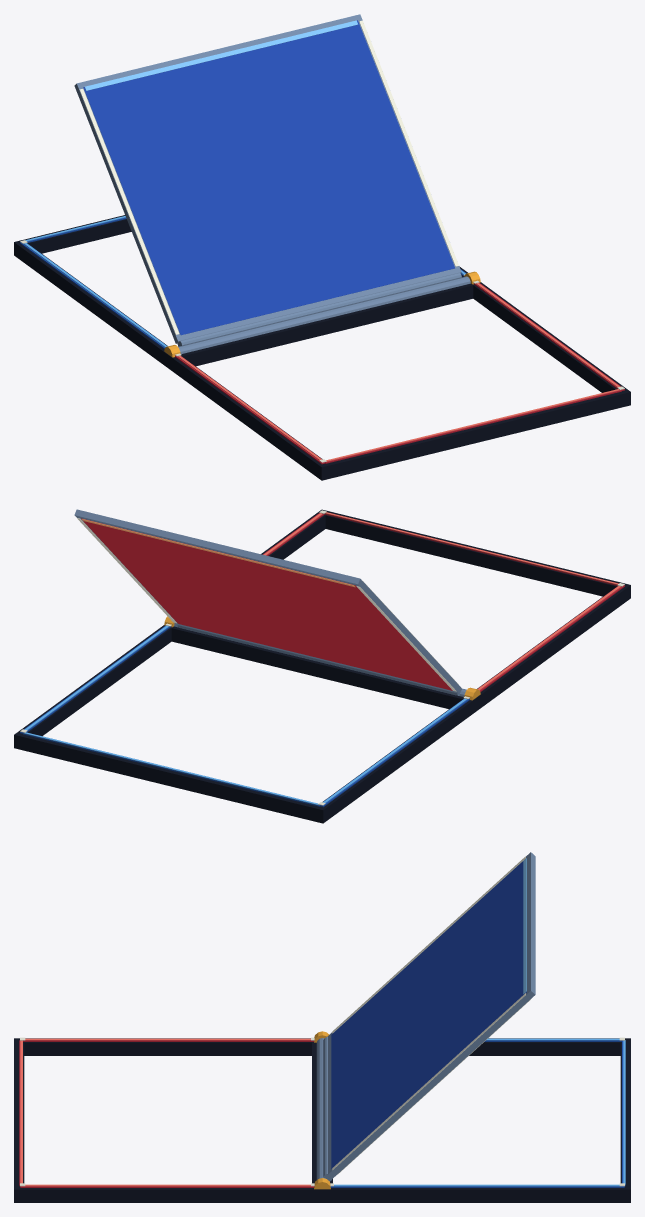
File: jump_flip_pair_flip_06.obj
3 views of the same model, one above another, from view 1: azimuth 30°, elevation 25°; view 2: azimuth 150°, elevation 25°; view 3: azimuth 270°, elevation 25° (orthographic).
Parts seen in each view (by area): view 1: blue_top, red_end_shell, red_side_shell, reversible_leaf, blue_side_shell, hinge_axle, blue_side_trim, leaf_hinge, red_border, blue_end_shell, red_rim_light, blue_end_bar (+2 smaller); view 2: red_bottom, blue_end_shell, blue_side_shell, red_end_shell, reversible_leaf, red_side_shell, blue_rim_light, blue_border, red_rim_light, red_border, leaf_hinge, red_side_trim (+1 smaller); view 3: blue_top, red_side_shell, blue_side_shell, reversible_leaf, red_rim_light, red_end_shell, blue_rim_light, red_border, blue_end_shell, blue_side_trim, blue_border, hinge_axle (+2 smaller).
Boxes of the visible parts, x1=… form: blue_top: x1=83, y1=20, x2=454, y2=335; red_end_shell: x1=168, y1=282, x2=630, y2=480; red_side_shell: x1=168, y1=283, x2=630, y2=480; reversible_leaf: x1=74, y1=14, x2=461, y2=343; blue_side_shell: x1=14, y1=240, x2=467, y2=367; hinge_axle: x1=178, y1=276, x2=470, y2=354; blue_side_trim: x1=79, y1=20, x2=458, y2=334; leaf_hinge: x1=177, y1=272, x2=461, y2=346; red_border: x1=175, y1=282, x2=624, y2=464; blue_end_shell: x1=14, y1=215, x2=167, y2=367; red_rim_light: x1=178, y1=283, x2=620, y2=461; blue_end_bar: x1=85, y1=20, x2=357, y2=90; red_bottom: x1=81, y1=518, x2=452, y2=690; blue_end_shell: x1=14, y1=626, x2=476, y2=822; blue_side_shell: x1=14, y1=625, x2=476, y2=823; red_end_shell: x1=323, y1=510, x2=630, y2=710; reversible_leaf: x1=74, y1=509, x2=461, y2=693; red_side_shell: x1=261, y1=509, x2=630, y2=710; blue_rim_light: x1=23, y1=625, x2=467, y2=805; blue_border: x1=20, y1=625, x2=469, y2=807; red_rim_light: x1=263, y1=512, x2=621, y2=690; red_border: x1=263, y1=513, x2=624, y2=691; leaf_hinge: x1=177, y1=625, x2=461, y2=695; red_side_trim: x1=77, y1=518, x2=456, y2=691; blue_top: x1=331, y1=861, x2=526, y2=1168; red_side_shell: x1=14, y1=1038, x2=322, y2=1202; blue_side_shell: x1=322, y1=1038, x2=630, y2=1202; reversible_leaf: x1=327, y1=852, x2=535, y2=1178; red_rim_light: x1=20, y1=1038, x2=310, y2=1186; red_end_shell: x1=14, y1=1038, x2=321, y2=1202; blue_rim_light: x1=334, y1=1038, x2=625, y2=1186; red_border: x1=19, y1=1040, x2=314, y2=1187; blue_end_shell: x1=322, y1=1038, x2=630, y2=1202; blue_side_trim: x1=332, y1=856, x2=525, y2=1170; blue_border: x1=330, y1=1040, x2=625, y2=1187; hinge_axle: x1=316, y1=1038, x2=325, y2=1179.
Size of the model in its own units: 11.6 by 7.36 by 20.
